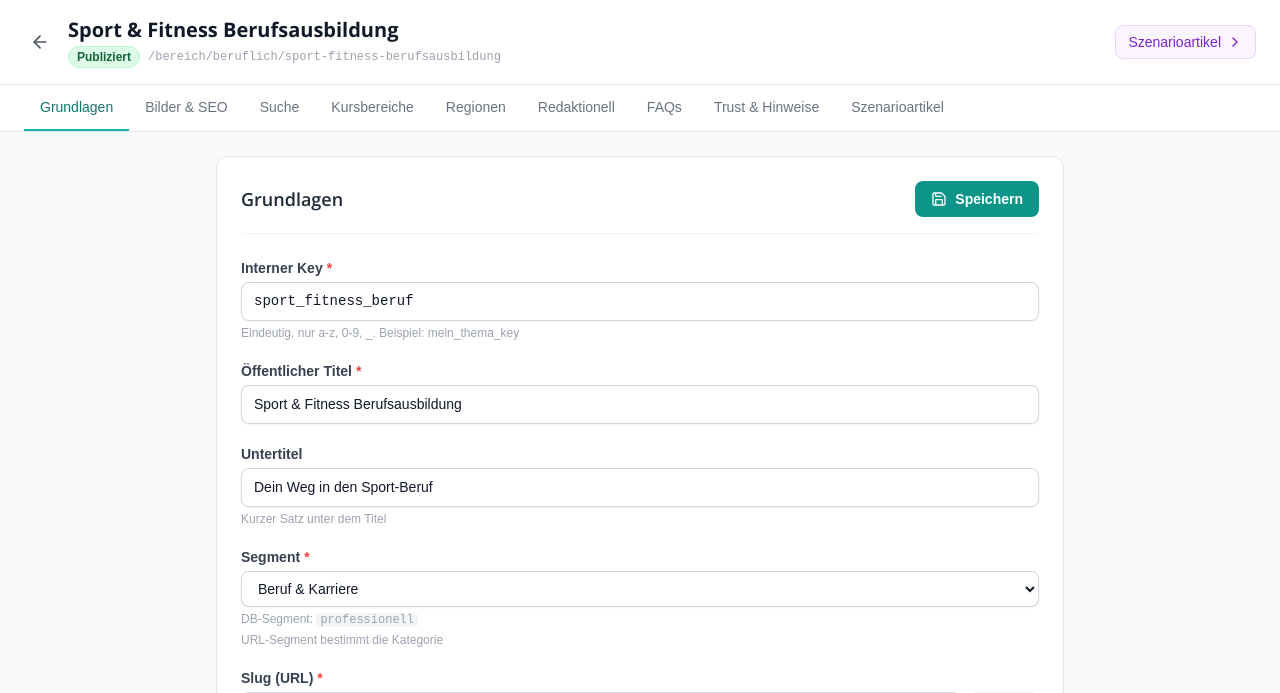
Test: 3. Spezialgebiet-Dropdown › Kursbereich-Label ist ebenfalls ein Taxonomie-Select
Click the button "Kursbereiche" at (373, 108), box x1=315 y1=85 x2=430 y2=131
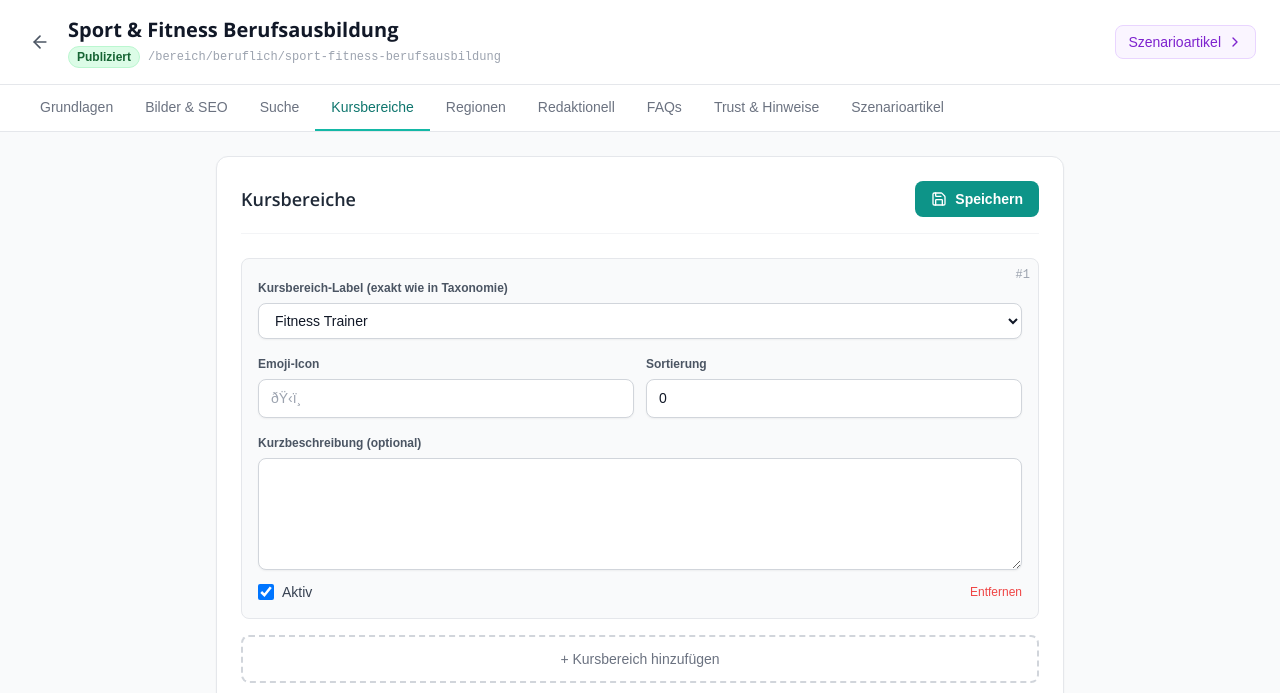
Expected: the dropdown shows "Fitness Trainer", x1=258 y1=303 x2=1022 y2=339
